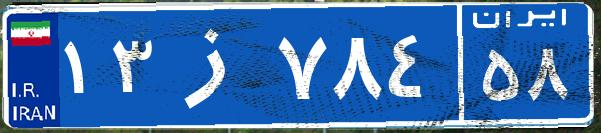1: (57, 26, 110, 107)
3: (110, 28, 158, 105)
4: (385, 28, 445, 110)
5: (475, 38, 525, 113)
7: (273, 28, 330, 110)
8: (330, 28, 385, 110), (525, 38, 570, 115)
ز: (158, 15, 273, 115)
